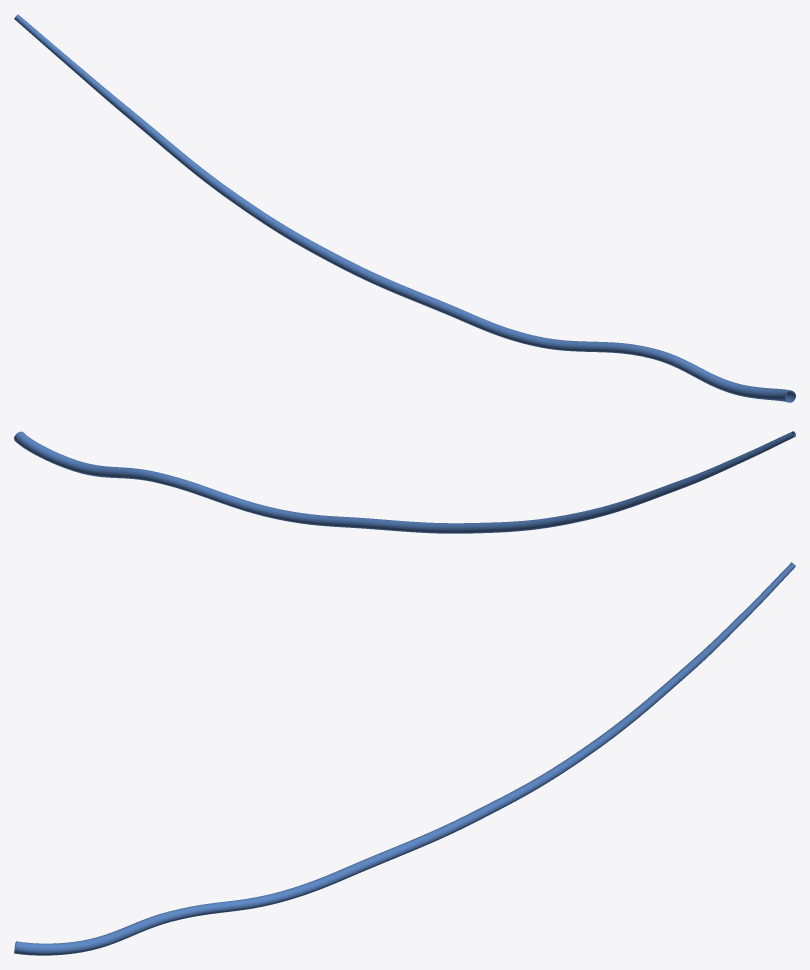
3 renders of one model, top to bottom at view 1: azimuth 30°, elevation 25°; view 2: azimuth 210°, elevation 25°; view 3: azimuth 270°, elevation 25°, orthographic.
Visible parts, largest first — view 1: 右侧肌膈静脉; view 2: 右侧肌膈静脉; view 3: 右侧肌膈静脉.
Boxes of the visible parts, x1=… form: 右侧肌膈静脉: x1=14, y1=14, x2=795, y2=402; 右侧肌膈静脉: x1=14, y1=431, x2=795, y2=533; 右侧肌膈静脉: x1=14, y1=562, x2=795, y2=955.
Bounding box in the file's own units: 0.1402 × 0.071 × 0.2389.
